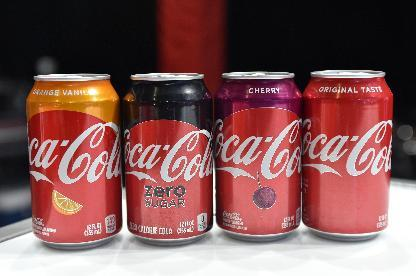Can: (26, 73, 122, 250), (122, 72, 214, 247), (302, 69, 394, 241), (213, 70, 303, 240)
